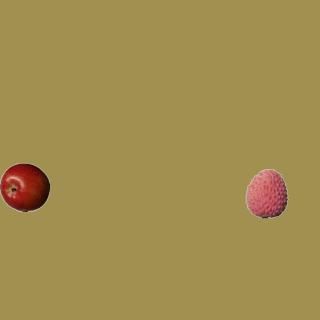Apple Braeburn: (0, 162, 49, 212)
Lychee: (241, 168, 291, 218)
